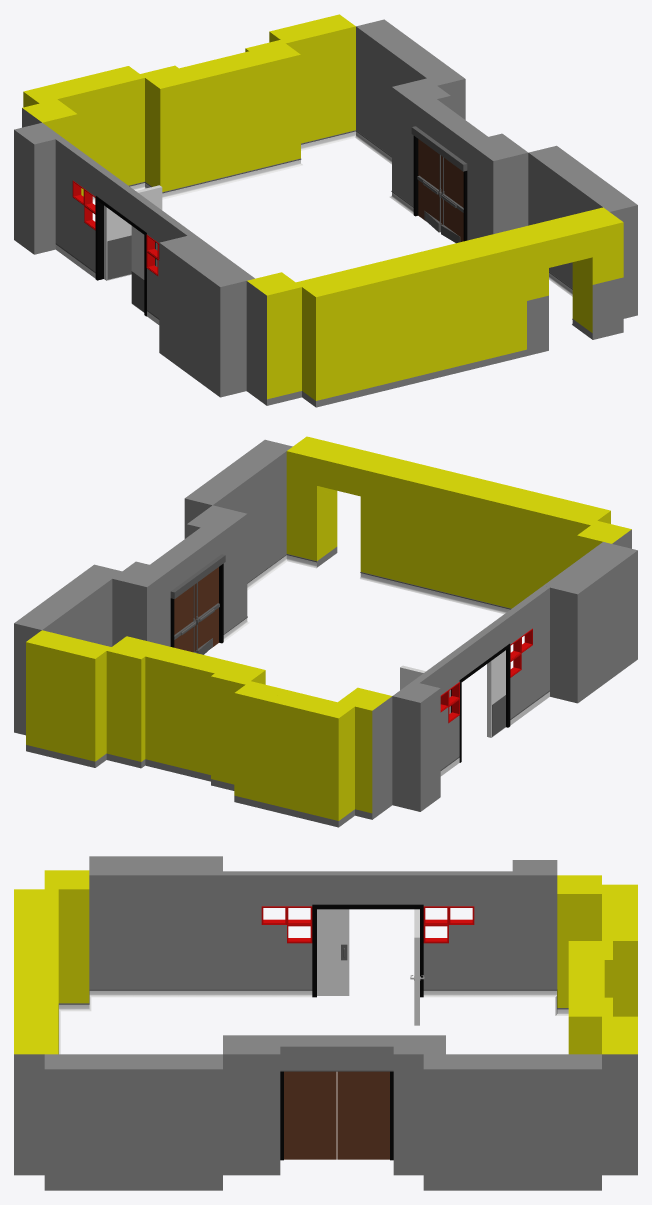
Rendered from Trauma_Room.fbx.
3 views of the same model, one above another, from view 1: azimuth 30°, elevation 25°; view 2: azimuth 150°, elevation 25°; view 3: azimuth 270°, elevation 25° (orthographic). The views are drawn at different scales.
Parts seen in each view (by area): view 1: SmartCombine_33; view 2: SmartCombine_33; view 3: SmartCombine_33.
Part boxes in pixels (x1=…): SmartCombine_33: x1=14, y1=14, x2=637, y2=407; SmartCombine_33: x1=14, y1=436, x2=637, y2=827; SmartCombine_33: x1=14, y1=856, x2=637, y2=1190.
Size of the model in its own units: 1131 by 300 by 1399.
